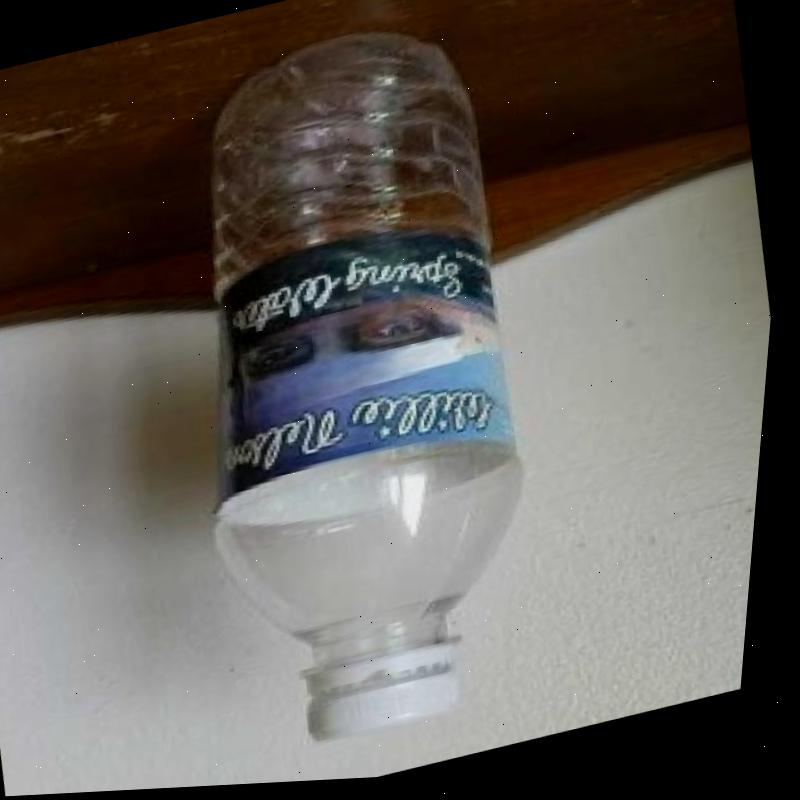botella: (115, 0, 611, 772)
